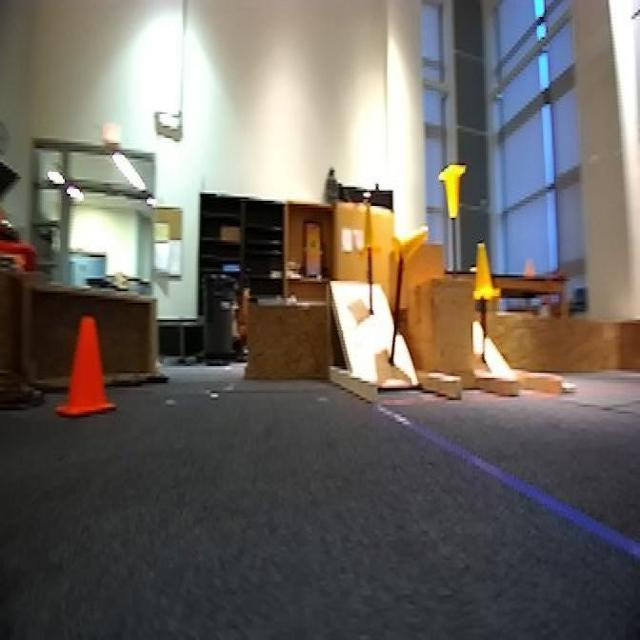frc_cone: (439, 162, 467, 221), (391, 226, 426, 272), (472, 243, 496, 303), (359, 204, 378, 250)
